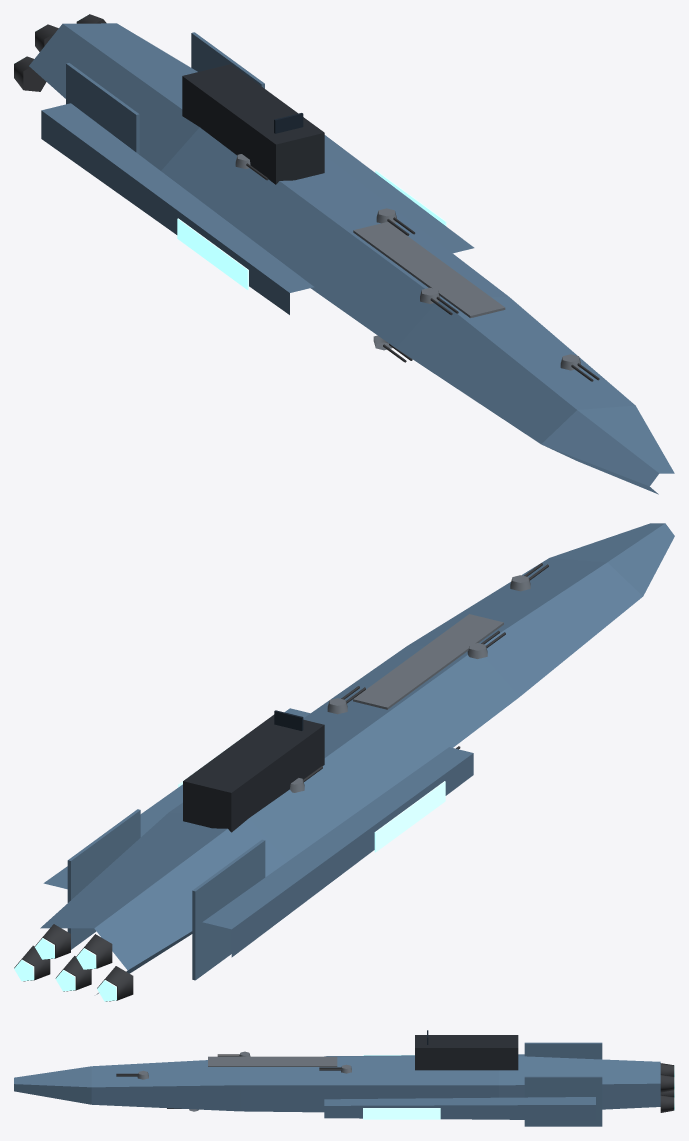
Rendered from space_ship_cruiser_mk5_lod1.glb.
The picture shows the model from 3 angles, top to bottom: view 1: azimuth 30°, elevation 25°; view 2: azimuth 150°, elevation 25°; view 3: azimuth 270°, elevation 25°; orthographic projection. The views are drawn at different scales.
Visible parts, largest first — view 1: body, hangar_r, engine_0; view 2: body, hangar_r, engine_0, engine_1, engine_3, engine_4, engine_2; view 3: body, hangar_l, engine_3, engine_4, turret_0, turret_4, engine_1.
Boxes of the visible parts, left/top/right/bottom form: body: left=29, top=23, right=674, bottom=494; hangar_r: left=177, top=218, right=248, bottom=289; engine_0: left=14, top=56, right=46, bottom=91; body: left=40, top=523, right=674, bottom=994; hangar_r: left=374, top=781, right=445, bottom=852; engine_0: left=97, top=966, right=133, bottom=1001; engine_1: left=76, top=934, right=112, bottom=969; engine_3: left=35, top=924, right=70, bottom=959; engine_4: left=14, top=945, right=50, bottom=981; engine_2: left=55, top=956, right=91, bottom=991; body: left=14, top=1030, right=660, bottom=1126; hangar_l: left=363, top=1108, right=440, bottom=1119; engine_3: left=660, top=1074, right=674, bottom=1092; engine_4: left=660, top=1095, right=674, bottom=1112; turret_0: left=116, top=1070, right=148, bottom=1079; turret_4: left=319, top=1064, right=351, bottom=1073; engine_1: left=660, top=1063, right=674, bottom=1076.
Size of the model in its own units: 18.56 by 12.2 by 96.84.
